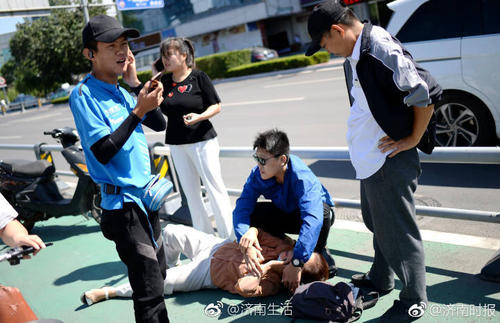fall: (81, 212, 358, 308)
